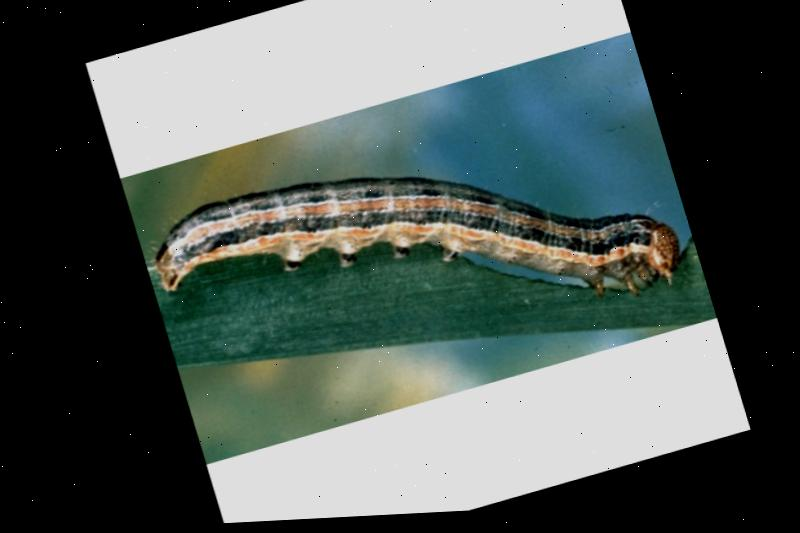fall-armyworm: (149, 180, 676, 305)
